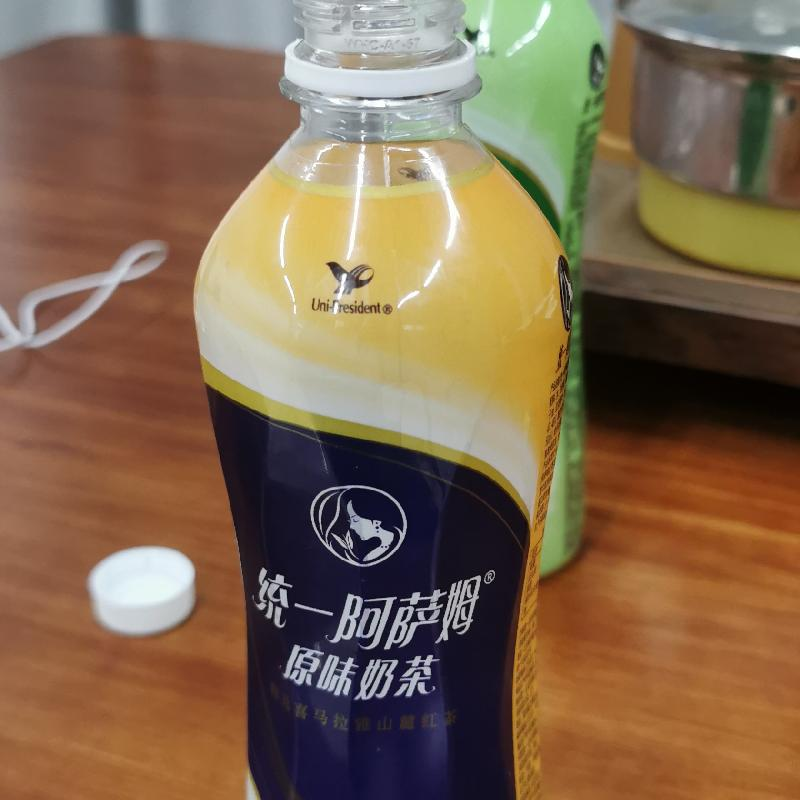bottles: (191, 0, 580, 799)
